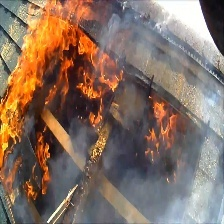fire: (143, 99, 178, 164)
